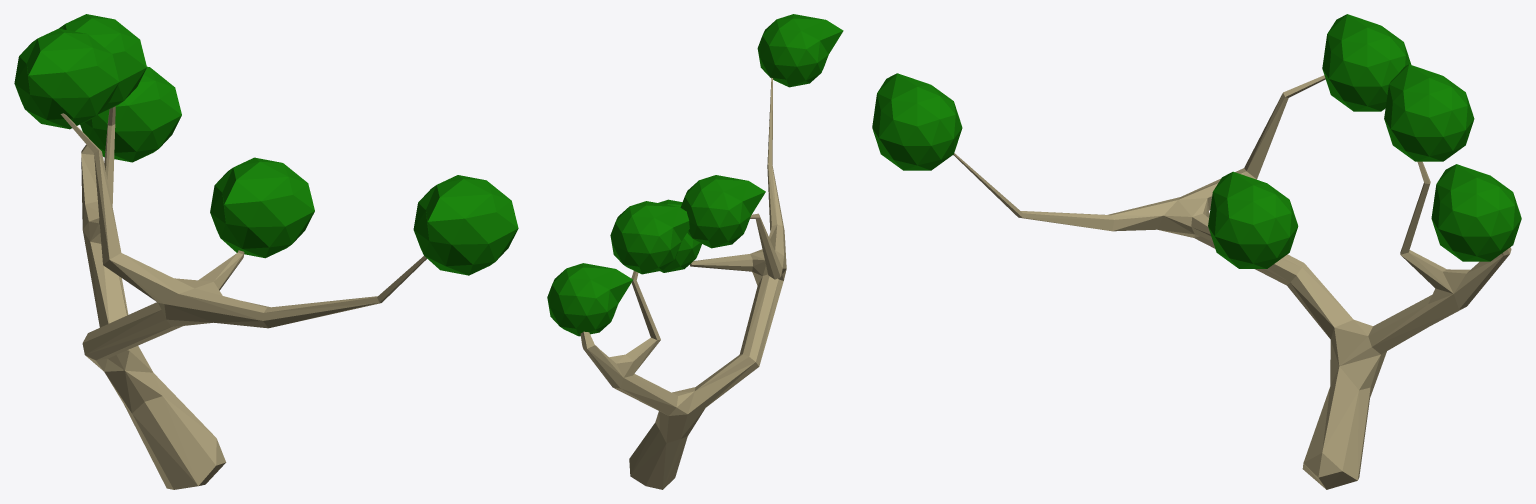
The model's file is SimpleTree.dae.
The picture shows the model from 3 angles, left to right: view 1: azimuth 30°, elevation 25°; view 2: azimuth 150°, elevation 25°; view 3: azimuth 270°, elevation 25°; orthographic projection. The views are drawn at different scales.
Parts seen in each view (by area): view 1: Cube, Icosphere_004, Icosphere_003, Icosphere_002, Icosphere, Icosphere_001; view 2: Cube, Icosphere_004, Icosphere, Icosphere_001, Icosphere_002, Icosphere_003; view 3: Cube, Icosphere, Icosphere_004, Icosphere_003, Icosphere_001, Icosphere_002.
Boxes of the visible parts, left/top/right/bottom form: Cube: left=60, top=106, right=426, bottom=489; Icosphere_004: left=413, top=175, right=518, bottom=275; Icosphere_003: left=210, top=157, right=314, bottom=258; Icosphere_002: left=14, top=28, right=119, bottom=129; Icosphere: left=80, top=66, right=181, bottom=162; Icosphere_001: left=59, top=14, right=146, bottom=114; Cube: left=580, top=77, right=786, bottom=489; Icosphere_004: left=757, top=14, right=843, bottom=87; Icosphere: left=547, top=263, right=632, bottom=336; Icosphere_001: left=610, top=201, right=689, bottom=274; Icosphere_002: left=680, top=175, right=765, bottom=248; Icosphere_003: left=658, top=199, right=701, bottom=272; Cube: left=953, top=75, right=1511, bottom=489; Icosphere: left=1431, top=164, right=1521, bottom=261; Icosphere_004: left=872, top=73, right=962, bottom=170; Icosphere_003: left=1208, top=171, right=1298, bottom=268; Icosphere_001: left=1384, top=64, right=1474, bottom=161; Icosphere_002: left=1322, top=14, right=1411, bottom=111.
Size of the model in its own units: 1.63 by 4.31 by 3.06.
